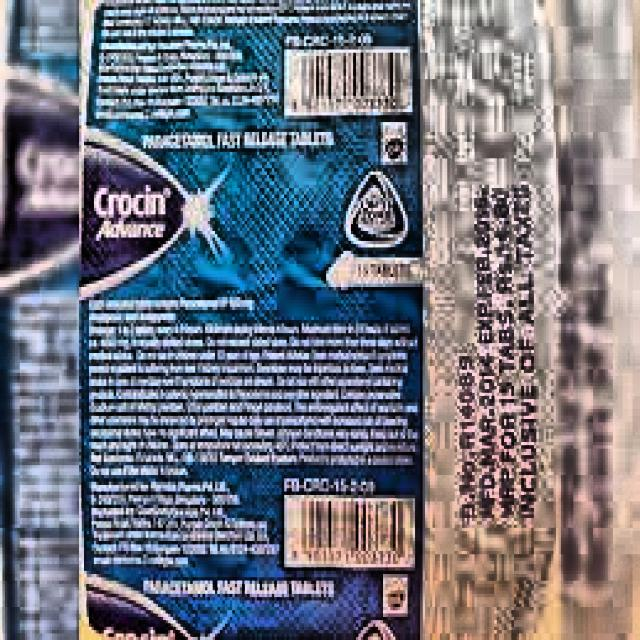Crocin: (82, 147, 193, 301)
